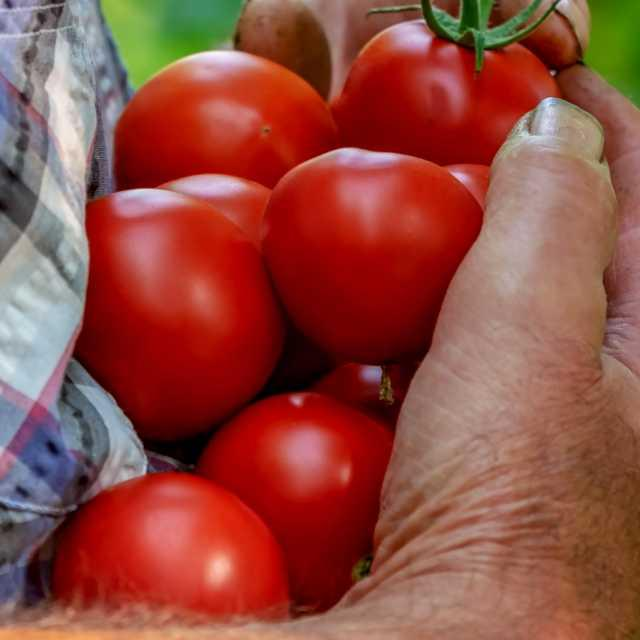tomato: (76, 191, 284, 440), (261, 148, 487, 364), (195, 393, 393, 609), (51, 473, 287, 616), (331, 22, 559, 165), (114, 51, 337, 189), (160, 174, 269, 245)
